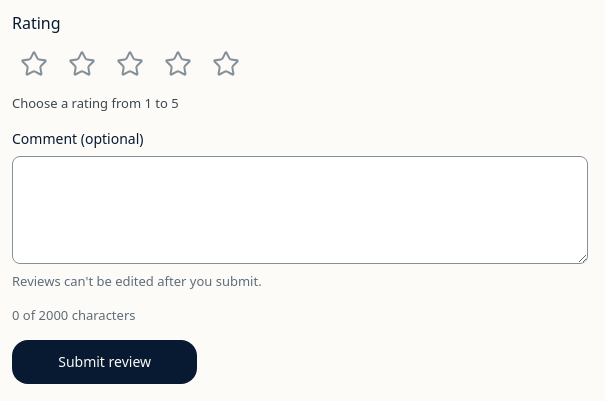
Test: homeowner action forms › arrow keys change the rating
The image size is (605, 401).
Later steps or results of the test are not shown.
Step 1. Click the radio button named "2 stars" → (82, 64), box x1=60 y1=42 x2=104 y2=86
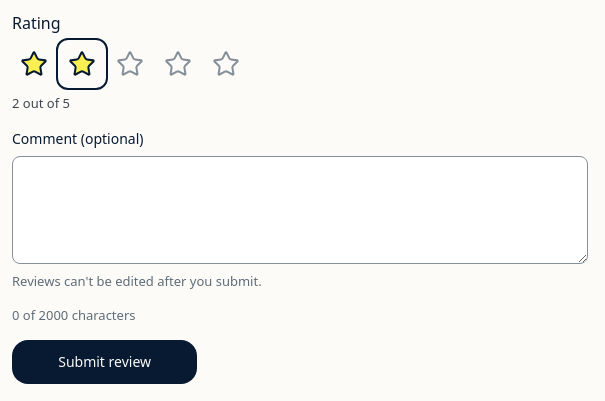
Step 2. Press ArrowRight in the radio button named "2 stars", box x1=60 y1=42 x2=104 y2=86
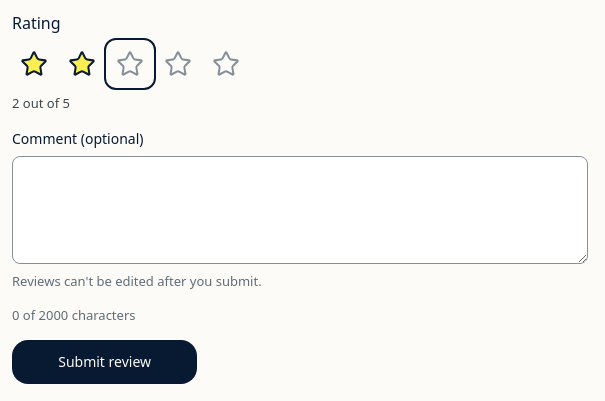
Step 3. Click the radio button named "3 stars" → (130, 64), box x1=108 y1=42 x2=152 y2=86
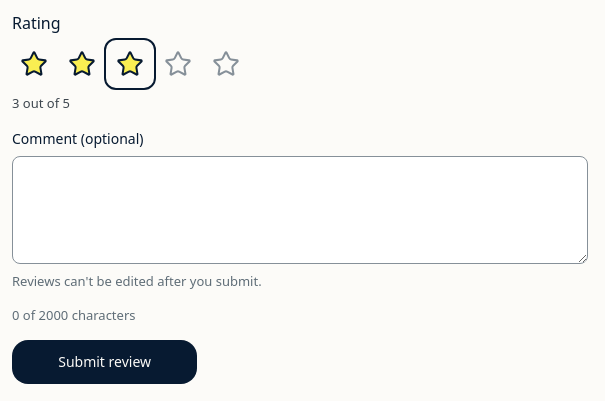
Check: the radio button named "3 stars" is checked, box x1=108 y1=42 x2=152 y2=86
Check: the text "3 out of 5" is shown, box x1=12 y1=94 x2=70 y2=112
